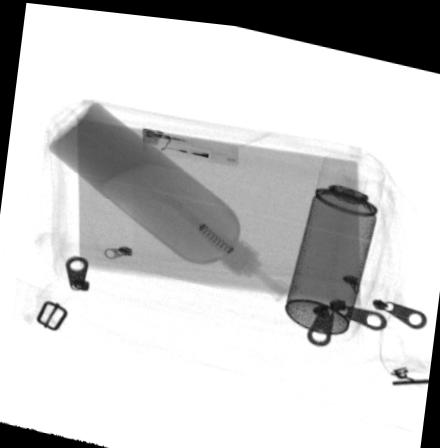Lighter: (140, 122, 240, 163)
Sprayer: (285, 146, 386, 327)
